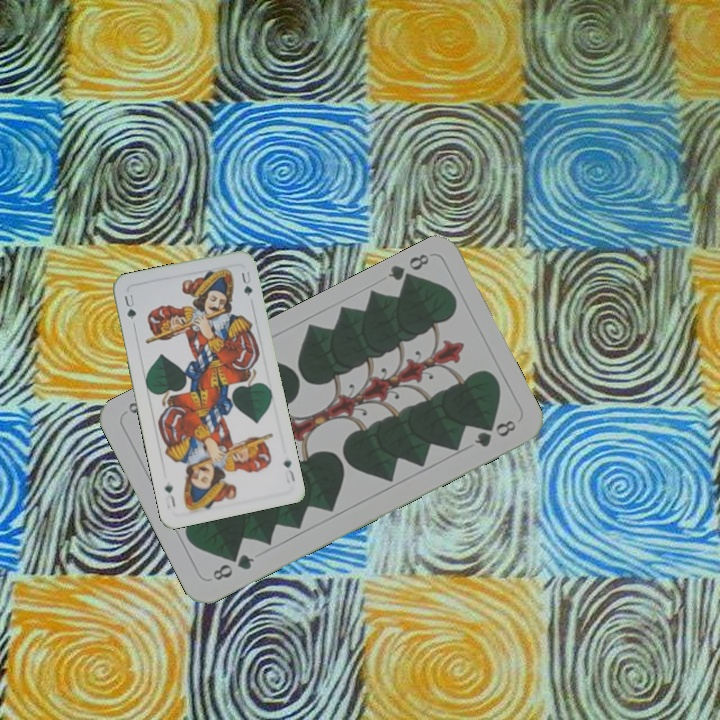G8: (383, 249, 432, 289), (208, 550, 257, 584)
GU: (120, 290, 139, 322), (279, 455, 298, 486)
